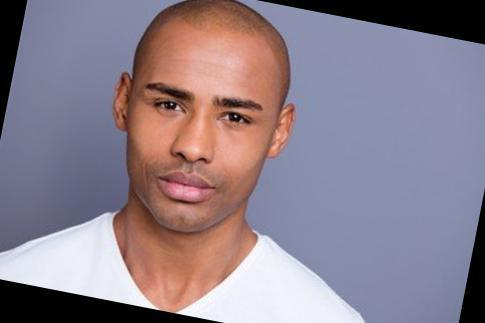Sober: (138, 33, 264, 211)
